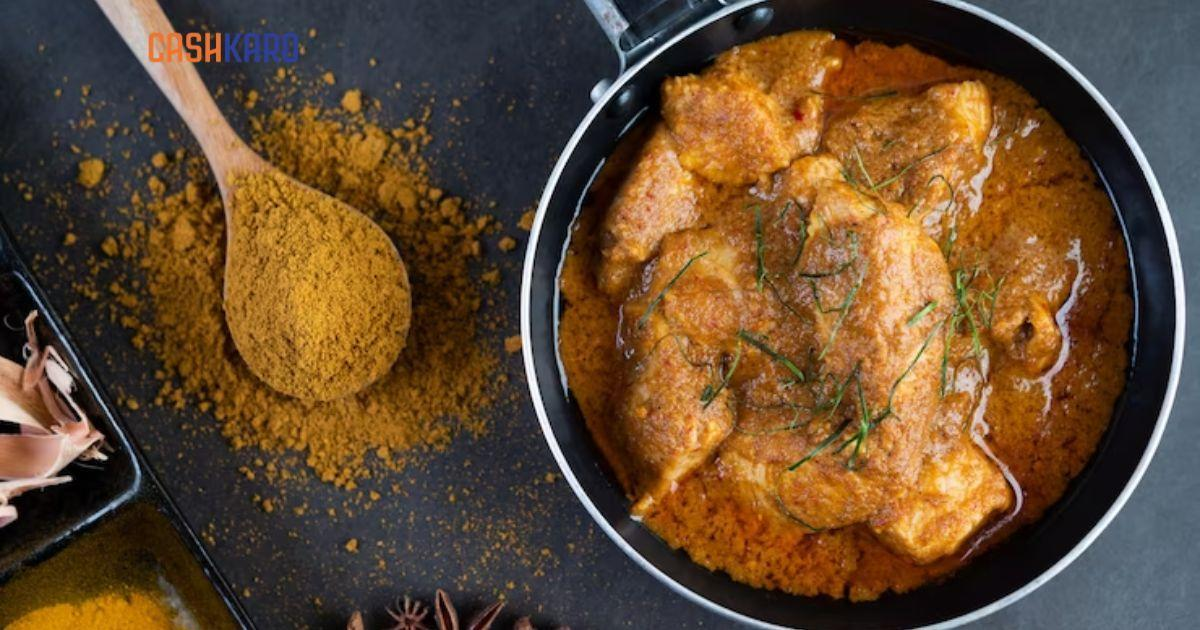chicken: (593, 38, 1092, 603)
